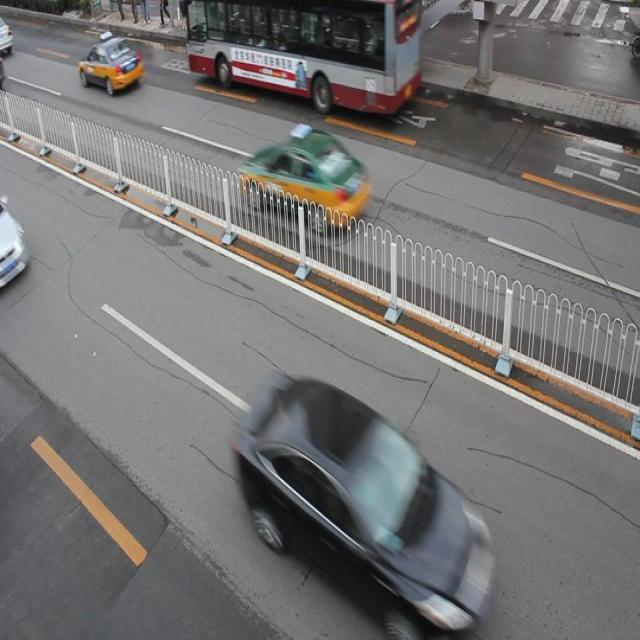car: (235, 371, 495, 630), (237, 127, 369, 230), (78, 35, 144, 95)
van: (184, 1, 419, 114)
